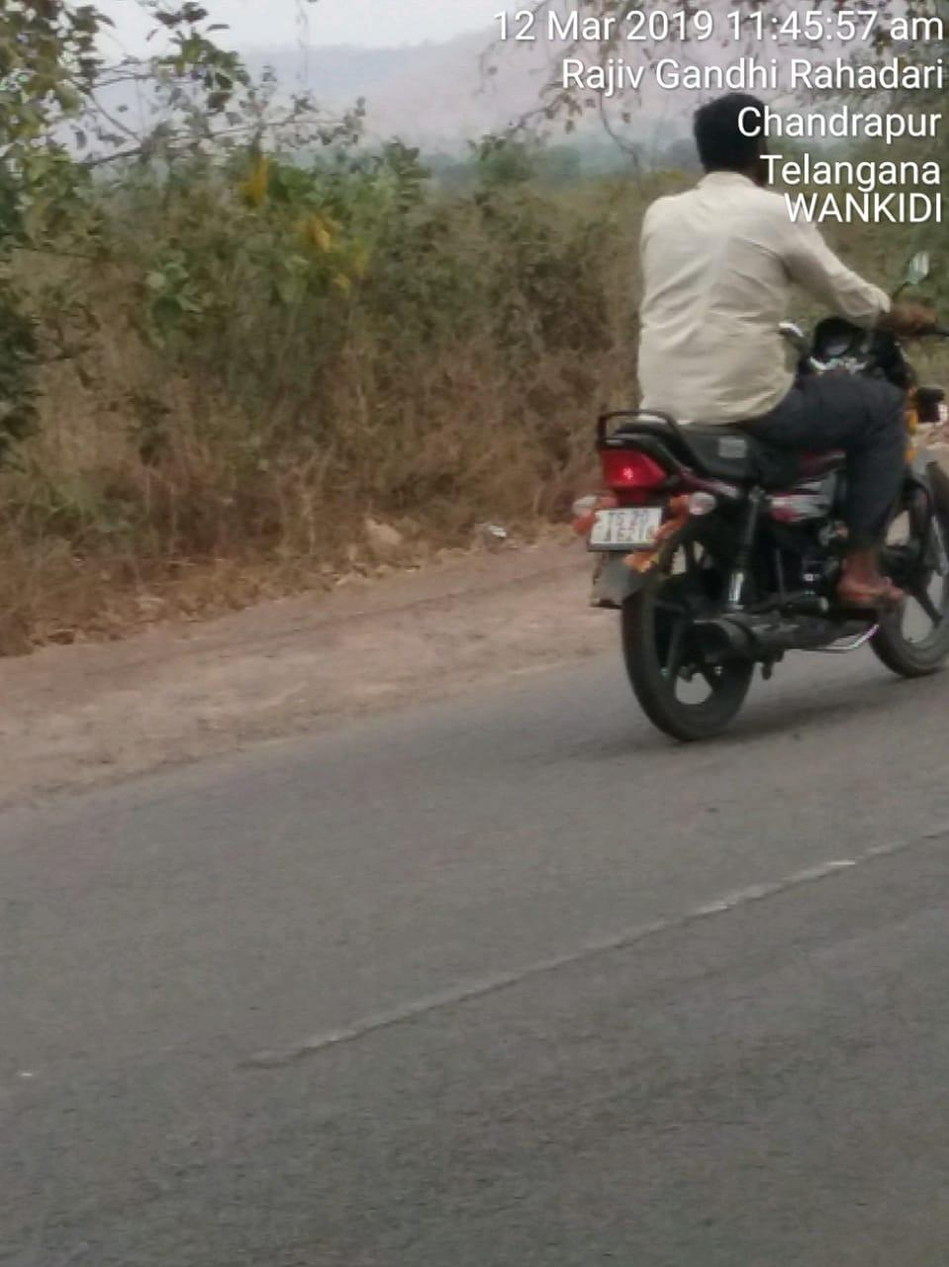plate: (587, 506, 665, 548)
